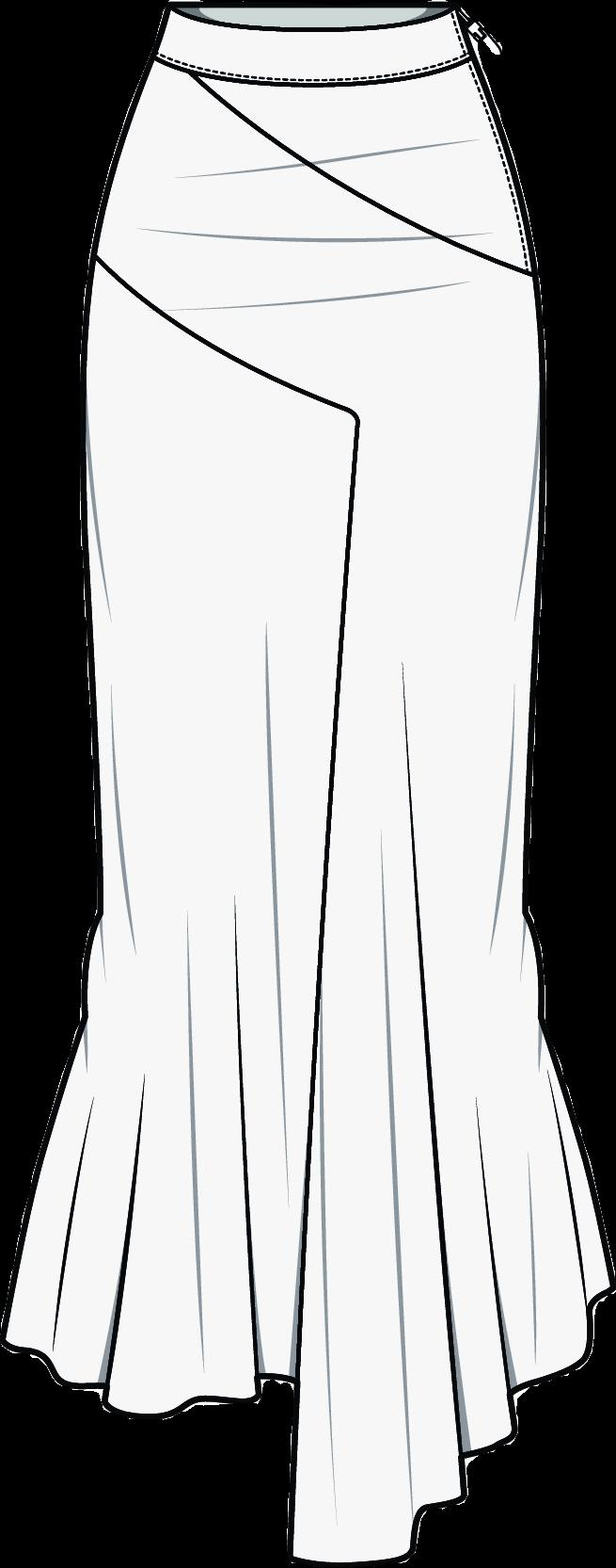Hemline: (89, 246, 615, 1567), (0, 1332, 287, 1428)
Waistline: (164, 71, 535, 280), (152, 47, 478, 96), (160, 0, 463, 46)
